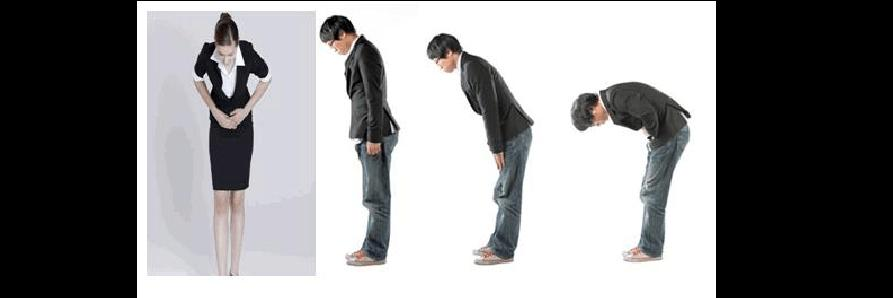bending: (425, 27, 547, 281), (177, 16, 277, 282), (573, 76, 692, 271), (315, 15, 405, 266)
